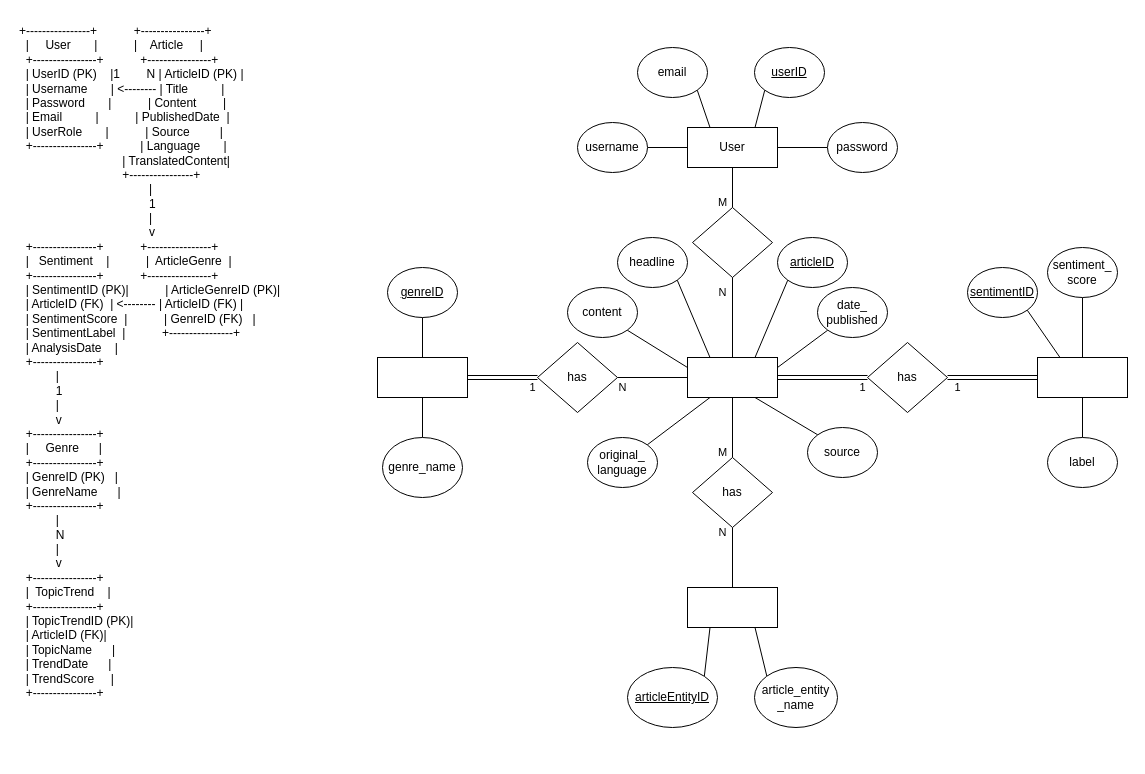
The diagram is 1145 pixels wide and 774 high, and some of its shapes have lost their labels. The centre of each missing label's shape, as x and y in pixels:
"Article" belongs at (732,377).
"ArticleEntity" belongs at (732,607).
"Genre" belongs at (422,377).
"Saves" belongs at (732,242).
"Sentiment" belongs at (1082,377).
